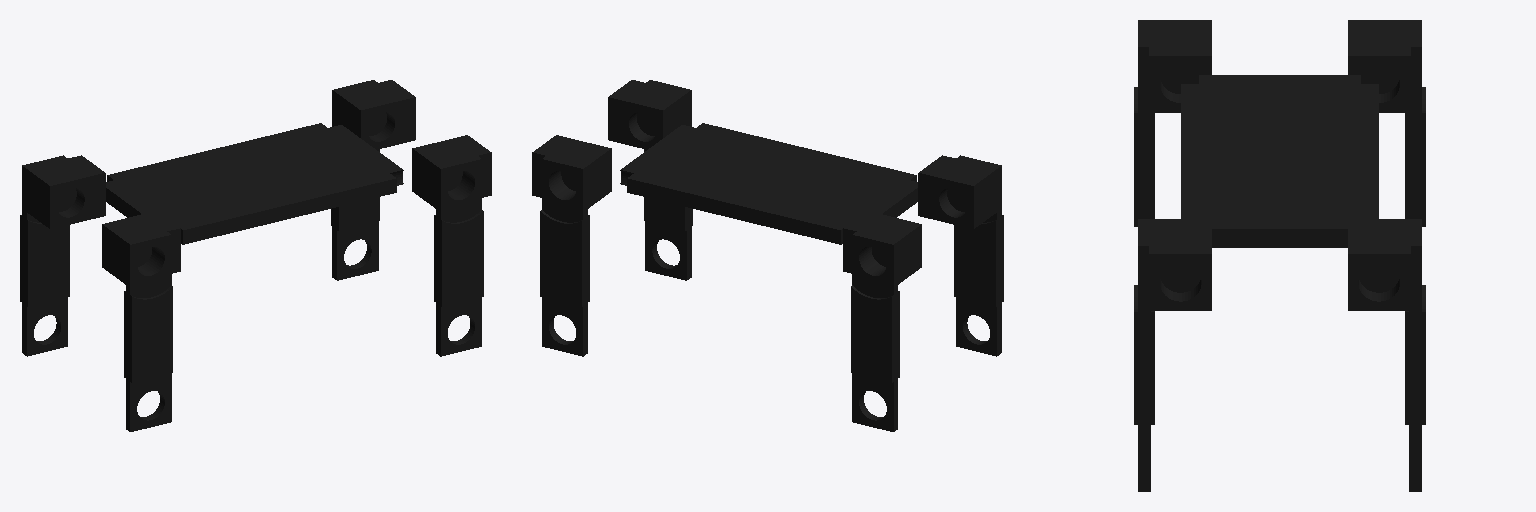
--- Facts derived from the render (not from the file) ---
Views: 3 orthographic renders of the robot side by side, from view 1: azimuth 30°, elevation 25°; view 2: azimuth 150°, elevation 25°; view 3: azimuth 270°, elevation 25°.
Model victor with 29 links and 28 joints (12 revolute, 16 fixed), rooted at base_link, posed every joint at zero.
Visible links, largest first — view 1: base_link, rf_upper_leg_link, rh_upper_leg_link, lh_upper_leg_link, lh_hip_link, lf_hip_link, lf_upper_leg_link, rf_hip_link, rh_hip_link; view 2: base_link, lf_upper_leg_link, lh_upper_leg_link, rh_upper_leg_link, rh_hip_link, rf_hip_link, rf_upper_leg_link, lf_hip_link, lh_hip_link; view 3: base_link, lf_hip_link, rf_hip_link, rh_hip_link, lh_hip_link, rf_upper_leg_link, lf_upper_leg_link, lh_upper_leg_link, rh_upper_leg_link.
Boxes of the visible links, x1,y1,x2,y2 form: base_link: (106, 123, 403, 244); rf_upper_leg_link: (434, 156, 483, 356); rh_upper_leg_link: (124, 231, 172, 431); lh_upper_leg_link: (20, 155, 69, 356); lh_hip_link: (26, 155, 105, 228); lf_hip_link: (337, 80, 415, 149); lf_upper_leg_link: (331, 80, 379, 280); rf_hip_link: (412, 135, 491, 208); rh_hip_link: (102, 211, 180, 284); base_link: (620, 123, 917, 244); lf_upper_leg_link: (540, 156, 589, 356); lh_upper_leg_link: (851, 231, 899, 431); rh_upper_leg_link: (954, 155, 1003, 356); rh_hip_link: (918, 155, 997, 228); rf_hip_link: (608, 80, 686, 149); rf_upper_leg_link: (644, 80, 692, 280); lf_hip_link: (532, 135, 611, 208); lh_hip_link: (843, 211, 921, 284); base_link: (1181, 75, 1378, 247); lf_hip_link: (1348, 219, 1410, 310); rf_hip_link: (1149, 219, 1211, 310); rh_hip_link: (1149, 20, 1211, 112); lh_hip_link: (1348, 20, 1410, 112); rf_upper_leg_link: (1134, 219, 1154, 491); lf_upper_leg_link: (1405, 219, 1425, 491); lh_upper_leg_link: (1405, 20, 1425, 226); rh_upper_leg_link: (1134, 20, 1154, 226).
Size in the robot's own frame: 0.265 by 0.14 by 0.13 metres.
9 mesh visuals loaded from 6 distinct referenced files (3 Collada DAE); not drawn: 6 (reference not matched to a file when rendering).

URDF robot description (victor):
<?xml version="1.0" encoding="utf-8"?>
<!-- =================================================================================== -->
<!-- |    This document was autogenerated by xacro from victor.urdf.xacro              | -->
<!-- |    EDITING THIS FILE BY HAND IS NOT RECOMMENDED                                 | -->
<!-- =================================================================================== -->
<robot name="victor">
  <!-- not how it is done in champ -->
  <material name="black">
    <color rgba="0.15 0.15 0.15 1.0"/>
  </material>
  <link name="base_link">
    <collision>
      <origin rpy="0 0 0" xyz="0 0 0"/>
      <geometry>
        <mesh filename="package://victor_description/meshes/base.dae" scale="1 1 1"/>
      </geometry>
    </collision>
    <visual>
      <origin rpy="0 0 0" xyz="0 0 0"/>
      <geometry>
        <mesh filename="package://victor_description/meshes/base.dae" scale="1 1 1"/>
      </geometry>
      <material name="black"/>
    </visual>
  </link>
  <link name="base_inertia">
    <inertial>
      <origin xyz="0 0 0"/>
      <mass value="2.0"/>
      <inertia ixx="0.00152083333333" ixy="0.0" ixz="0.0" iyy="0.00512083333333" iyz="0.0" izz="0.00660833333333"/>
    </inertial>
  </link>
  <joint name="base_link_to_base_inertia" type="fixed">
    <parent link="base_link"/>
    <child link="base_inertia"/>
    <origin rpy="0 0 0" xyz="0 0 0"/>
  </joint>
  <gazebo reference="base_link">
    <material>Gazebo/FlatBlack</material>
  </gazebo>
  <joint name="hokuyo_joint" type="fixed">
    <origin rpy="0 0 0" xyz="0.0 0.0 0.045"/>
    <parent link="base_link"/>
    <child link="hokuyo_frame"/>
  </joint>
  <link name="hokuyo_frame">
    <inertial>
      <mass value="0.270"/>
      <origin rpy="0 0 0" xyz="0 0 0"/>
      <inertia ixx="2.632e-4" ixy="0" ixz="0" iyy="2.632e-4" iyz="0" izz="1.62e-4"/>
    </inertial>
    <visual>
      <origin rpy="0 0 0" xyz="0 0 0"/>
      <geometry>
        <mesh filename="package://hector_sensors_description/meshes/hokuyo_utm30lx/hokuyo_utm_30lx.dae"/>
      </geometry>
    </visual>
    <collision>
      <origin rpy="0 0 0" xyz="0 0 -0.0115"/>
      <geometry>
        <box size="0.058 0.058 0.087"/>
        <!--<mesh filename="package://hector_sensors_description/meshes/hokuyo_utm30lx/hokuyo_utm_30lx.stl"/>-->
      </geometry>
    </collision>
  </link>
  <gazebo reference="hokuyo_frame">
    <sensor name="hokuyo" type="ray">
      <always_on>true</always_on>
      <update_rate>30</update_rate>
      <pose>0 0 0 0 0 0</pose>
      <visualize>false</visualize>
      <ray>
        <scan>
          <horizontal>
            <samples>1040</samples>
            <resolution>1</resolution>
            <min_angle>2.26892802759</min_angle>
            <max_angle>-2.26892802759</max_angle>
          </horizontal>
        </scan>
        <range>
          <min>0.2</min>
          <max>30.0</max>
          <resolution>0.01</resolution>
        </range>
        <noise>
          <type>gaussian</type>
          <mean>0.0</mean>
          <stddev>0.004</stddev>
        </noise>
      </ray>
      <plugin filename="libgazebo_ros_laser.so" name="gazebo_ros_hokuyo_controller">
        <topicName>scan</topicName>
        <frameName>hokuyo_frame</frameName>
      </plugin>
    </sensor>
  </gazebo>
  <joint name="camera_joint" type="fixed">
    <origin rpy="0 0 0" xyz="0.175 0.0 0.015"/>
    <parent link="base_link"/>
    <child link="camera_link"/>
  </joint>
  <link name="camera_link">
    <inertial>
      <mass value="0.200"/>
      <origin rpy="0 0 0" xyz="0 0 0"/>
      <inertia ixx="5.8083e-4" ixy="0" ixz="0" iyy="3.0833e-5" iyz="0" izz="5.9083e-4"/>
    </inertial>
    <visual>
      <origin rpy="0 0 0" xyz="0 0 0"/>
      <geometry>
        <mesh filename="package://hector_sensors_description/meshes/asus_camera/asus_camera_simple.dae"/>
      </geometry>
    </visual>
    <!--        
       <collision>
          <origin xyz="0 0 0" rpy="0 0 0" />
          <geometry>
            <box size="0.035 0.185 0.025"/>
          </geometry>
        </collision>
        -->
    <collision>
      <origin rpy="0 0 0" xyz="0 0 0"/>
      <geometry>
        <mesh filename="package://hector_sensors_description/meshes/asus_camera/asus_camera_simple.dae"/>
      </geometry>
    </collision>
  </link>
  <joint name="camera_depth_joint" type="fixed">
    <origin rpy="0 0 0" xyz="0.0 0.049 0.0"/>
    <parent link="camera_link"/>
    <child link="camera_depth_frame"/>
  </joint>
  <link name="camera_depth_frame"/>
  <joint name="camera_depth_optical_joint" type="fixed">
    <origin rpy="-1.57079632679 0.0 -1.57079632679" xyz="0 0 0"/>
    <parent link="camera_depth_frame"/>
    <child link="camera_depth_optical_frame"/>
  </joint>
  <link name="camera_depth_optical_frame"/>
  <joint name="camera_rgb_joint" type="fixed">
    <origin rpy="0 0 0" xyz="0.0 0.022 0.0"/>
    <parent link="camera_link"/>
    <child link="camera_rgb_frame"/>
  </joint>
  <link name="camera_rgb_frame"/>
  <joint name="camera_rgb_optical_joint" type="fixed">
    <origin rpy="-1.57079632679 0.0 -1.57079632679" xyz="0 0 0"/>
    <parent link="camera_rgb_frame"/>
    <child link="camera_rgb_optical_frame"/>
  </joint>
  <link name="camera_rgb_optical_frame"/>
  <!-- ASUS Xtion PRO camera for simulation -->
  <gazebo reference="camera_depth_frame">
    <sensor name="camera" type="depth">
      <update_rate>20</update_rate>
      <camera>
        <horizontal_fov>1.09606677025</horizontal_fov>
        <image>
          <format>R8G8B8</format>
          <width>640</width>
          <height>480</height>
        </image>
        <clip>
          <near>0.5</near>
          <far>9</far>
        </clip>
      </camera>
      <plugin filename="libgazebo_ros_openni_kinect.so" name="camera_camera_controller">
        <imageTopicName>camera/rgb/image_raw</imageTopicName>
        <cameraInfoTopicName>camera/rgb/camera_info</cameraInfoTopicName>
        <depthImageTopicName>camera/depth/image_raw</depthImageTopicName>
        <depthImageCameraInfoTopicName>camera/depth/camera_info</depthImageCameraInfoTopicName>
        <pointCloudTopicName>camera/depth/points</pointCloudTopicName>
        <frameName>camera_depth_optical_frame</frameName>
      </plugin>
    </sensor>
  </gazebo>
  <gazebo>
    <plugin filename="libhector_gazebo_ros_imu.so" name="imu_controller">
      <updateRate>50.0</updateRate>
      <bodyName>imu_link</bodyName>
      <topicName>imu/data</topicName>
      <accelDrift>0.005 0.005 0.005</accelDrift>
      <accelGaussianNoise>0.005 0.005 0.005</accelGaussianNoise>
      <rateDrift>0.005 0.005 0.005 </rateDrift>
      <rateGaussianNoise>0.005 0.005 0.005 </rateGaussianNoise>
      <headingDrift>0.005</headingDrift>
      <headingGaussianNoise>0.005</headingGaussianNoise>
    </plugin>
  </gazebo>
  <link name="imu_link">
    <inertial>
      <mass value="0.001"/>
      <origin rpy="0 0 0" xyz="0 0 0"/>
      <inertia ixx="1e-09" ixy="0.0" ixz="0.0" iyy="1e-09" iyz="0.0" izz="1e-09"/>
    </inertial>
  </link>
  <joint name="imu_joint" type="fixed">
    <parent link="base_link"/>
    <child link="imu_link"/>
  </joint>
  <!-- <xacro:include filename="$(find velodyne_description)/urdf/VLP-16.urdf.xacro"/>
        <xacro:VLP-16 parent="${base_name}" name="velodyne" topic="velodyne_points" hz="10" samples="1024" gpu="false" lasers="16" max_range="100">
	<origin xyz="0 0 ${base_height / 2}" rpy="0 0 0" />
        </xacro:VLP-16>

        <xacro:include filename="$(find champ_arm_description)/urdf/champ_arm.urdf.xacro" />
        <xacro:champ_arm parent="${base_name}">
	<origin xyz="0.07 0.0 ${base_height / 2}" rpy="0 0 0"/>
        </xacro:champ_arm> -->
  <link name="lf_hip_debug_link"/>
  <link name="lf_hip_link">
    <inertial>
      <mass value="0.25"/>
      <inertia ixx="3.75e-05" ixy="0.0" ixz="0.0" iyy="5.20833333333e-05" iyz="0.0" izz="5.20833333333e-05"/>
    </inertial>
    <collision>
      <origin rpy="0 0 0" xyz="0 0 0"/>
      <geometry>
        <mesh filename="package://victor_description/meshes/hip.dae" scale="1 1 1"/>
      </geometry>
    </collision>
    <visual>
      <origin rpy="0 0 0" xyz="0 0 0"/>
      <geometry>
        <mesh filename="package://victor_description/meshes/hip.dae" scale="1 1 1"/>
      </geometry>
      <material name="black"/>
    </visual>
  </link>
  <gazebo reference="lf_hip_link">
    <material>Gazebo/FlatBlack</material>
  </gazebo>
  <link name="lf_upper_leg_link">
    <inertial>
      <origin xyz="0 0 -0.05"/>
      <mass value="0.125"/>
      <inertia ixx="0.000105208333333" ixy="0.0" ixz="0.0" iyy="0.000113541666667" iyz="0.0" izz="1.04166666667e-05"/>
    </inertial>
    <collision>
      <origin rpy="0 0 0" xyz="0 0 0"/>
      <geometry>
        <mesh filename="package://victor_description/meshes/upper_leg.dae" scale="1 1 1"/>
      </geometry>
    </collision>
    <visual>
      <origin rpy="0 0 0" xyz="0 0 0"/>
      <geometry>
        <mesh filename="package://victor_description/meshes/upper_leg.dae" scale="1 1 1"/>
      </geometry>
      <material name="black"/>
    </visual>
  </link>
  <gazebo reference="lf_upper_leg_link">
    <material>Gazebo/FlatBlack</material>
  </gazebo>
  <link name="lf_lower_leg_link">
    <inertial>
      <origin xyz="0 0 -0.051"/>
      <mass value="0.125"/>
      <inertia ixx="0.000109416666667" ixy="0.0" ixz="0.0" iyy="0.00011775" iyz="0.0" izz="1.04166666667e-05"/>
    </inertial>
    <collision>
      <origin rpy="0 0 0" xyz="0 0 0"/>
      <geometry>
        <mesh filename="package://victor_description/meshes/lower_leg.dae" scale="1 1 1"/>
      </geometry>
    </collision>
    <visual>
      <origin rpy="0 0 0" xyz="0 0 0"/>
      <geometry>
        <mesh filename="package://victor_description/meshes/lower_leg.dae" scale="1 1 1"/>
      </geometry>
      <material name="black"/>
    </visual>
  </link>
  <gazebo reference="lf_lower_leg_link">
    <kp>1000000.0</kp>
    <kd>1.0</kd>
    <mu1>0.8</mu1>
    <mu2>0.8</mu2>
    <maxVel>0.0</maxVel>
    <minDepth>0.001</minDepth>
    <material>Gazebo/FlatBlack</material>
  </gazebo>
  <link name="lf_foot_link"/>
  <joint name="lf_debug_joint" type="fixed">
    <parent link="base_link"/>
    <child link="lf_hip_debug_link"/>
    <origin rpy="0 0 0" xyz="0.1125 0.0475 0"/>
  </joint>
  <joint name="lf_hip_joint" type="revolute">
    <axis xyz="1 0 0"/>
    <limit effort="25" lower="-3.14159265359" upper="3.14159265359" velocity="1.5"/>
    <parent link="base_link"/>
    <child link="lf_hip_link"/>
    <origin rpy="0 0 0" xyz="0.1125 0.0475 0"/>
  </joint>
  <joint name="lf_upper_leg_joint" type="revolute">
    <axis xyz="0 1 0"/>
    <limit effort="25" lower="-3.14159265359" upper="3.14159265359" velocity="1.5"/>
    <parent link="lf_hip_link"/>
    <child link="lf_upper_leg_link"/>
    <origin rpy="0 0 0" xyz="0 0.0175 0"/>
  </joint>
  <joint name="lf_lower_leg_joint" type="revolute">
    <axis xyz="0 1 0"/>
    <limit effort="25" lower="-3.14159265359" upper="3.14159265359" velocity="1.5"/>
    <parent link="lf_upper_leg_link"/>
    <child link="lf_lower_leg_link"/>
    <origin rpy="0 0 0" xyz="0 0 -0.1"/>
  </joint>
  <joint name="lf_foot_joint" type="fixed">
    <parent link="lf_lower_leg_link"/>
    <child link="lf_foot_link"/>
    <!-- <origin xyz="0.00325 0 -${lower_leg_to_foot_distance}" rpy="0 0 0" /> -->
    <origin rpy="0 0 0" xyz="0 0 -0.102"/>
  </joint>
  <transmission name="lf_hip_joint_trans">
    <type>transmission_interface/SimpleTransmission</type>
    <joint name="lf_hip_joint">
      <hardwareInterface>hardware_interface/EffortJointInterface</hardwareInterface>
    </joint>
    <actuator name="lf_hip_joint_motor">
      <hardwareInterface>hardware_interface/EffortJointInterface</hardwareInterface>
      <mechanicalReduction>1</mechanicalReduction>
    </actuator>
  </transmission>
  <transmission name="lf_upper_leg_joint_trans">
    <type>transmission_interface/SimpleTransmission</type>
    <joint name="lf_upper_leg_joint">
      <hardwareInterface>hardware_interface/EffortJointInterface</hardwareInterface>
    </joint>
    <actuator name="lf_upper_leg_joint_motor">
      <hardwareInterface>hardware_interface/EffortJointInterface</hardwareInterface>
      <mechanicalReduction>1</mechanicalReduction>
    </actuator>
  </transmission>
  <transmission name="lf_lower_leg_joint_trans">
    <type>transmission_interface/SimpleTransmission</type>
    <joint name="lf_lower_leg_joint">
      <hardwareInterface>hardware_interface/EffortJointInterface</hardwareInterface>
    </joint>
    <actuator name="lf_lower_joint_motor">
      <hardwareInterface>hardware_interface/EffortJointInterface</hardwareInterface>
      <mechanicalReduction>1</mechanicalReduction>
    </actuator>
  </transmission>
  <link name="lh_hip_debug_link"/>
  <link name="lh_hip_link">
    <inertial>
      <mass value="0.25"/>
      <inertia ixx="3.75e-05" ixy="0.0" ixz="0.0" iyy="5.20833333333e-05" iyz="0.0" izz="5.20833333333e-05"/>
    </inertial>
    <collision>
      <origin rpy="0 0 0" xyz="0 0 0"/>
      <geometry>
        <mesh filename="package://victor_description/meshes/hip.dae" scale="1 1 1"/>
      </geometry>
    </collision>
    <visual>
      <origin rpy="0 0 0" xyz="0 0 0"/>
      <geometry>
        <mesh filename="package://victor_description/meshes/hip.dae" scale="1 1 1"/>
      </geometry>
      <material name="black"/>
    </visual>
  </link>
  <gazebo reference="lh_hip_link">
    <material>Gazebo/FlatBlack</material>
  </gazebo>
  <link name="lh_upper_leg_link">
    <inertial>
      <origin xyz="0 0 -0.05"/>
      <mass value="0.125"/>
      <inertia ixx="0.000105208333333" ixy="0.0" ixz="0.0" iyy="0.000113541666667" iyz="0.0" izz="1.04166666667e-05"/>
    </inertial>
    <collision>
      <origin rpy="0 0 0" xyz="0 0 0"/>
      <geometry>
        <mesh filename="package://victor_description/meshes/upper_leg.dae" scale="1 1 1"/>
      </geometry>
    </collision>
    <visual>
      <origin rpy="0 0 0" xyz="0 0 0"/>
      <geometry>
        <mesh filename="package://victor_description/meshes/upper_leg.dae" scale="1 1 1"/>
      </geometry>
      <material name="black"/>
    </visual>
  </link>
  <gazebo reference="lh_upper_leg_link">
    <material>Gazebo/FlatBlack</material>
  </gazebo>
  <link name="lh_lower_leg_link">
    <inertial>
      <origin xyz="0 0 -0.051"/>
      <mass value="0.125"/>
      <inertia ixx="0.000109416666667" ixy="0.0" ixz="0.0" iyy="0.00011775" iyz="0.0" izz="1.04166666667e-05"/>
    </inertial>
    <collision>
      <origin rpy="0 0 0" xyz="0 0 0"/>
      <geometry>
        <mesh filename="package://victor_description/meshes/lower_leg.dae" scale="1 1 1"/>
      </geometry>
    </collision>
    <visual>
      <origin rpy="0 0 0" xyz="0 0 0"/>
      <geometry>
        <mesh filename="package://victor_description/meshes/lower_leg.dae" scale="1 1 1"/>
      </geometry>
      <material name="black"/>
    </visual>
  </link>
  <gazebo reference="lh_lower_leg_link">
    <kp>1000000.0</kp>
    <kd>1.0</kd>
    <mu1>0.8</mu1>
    <mu2>0.8</mu2>
    <maxVel>0.0</maxVel>
    <minDepth>0.001</minDepth>
    <material>Gazebo/FlatBlack</material>
  </gazebo>
  <link name="lh_foot_link"/>
  <joint name="lh_debug_joint" type="fixed">
    <parent link="base_link"/>
    <child link="lh_hip_debug_link"/>
    <origin rpy="0 0 0" xyz="-0.1125 0.0475 0"/>
  </joint>
  <joint name="lh_hip_joint" type="revolute">
    <axis xyz="1 0 0"/>
    <limit effort="25" lower="-3.14159265359" upper="3.14159265359" velocity="1.5"/>
    <parent link="base_link"/>
    <child link="lh_hip_link"/>
    <origin rpy="0 0 0" xyz="-0.1125 0.0475 0"/>
  </joint>
  <joint name="lh_upper_leg_joint" type="revolute">
    <axis xyz="0 1 0"/>
    <limit effort="25" lower="-3.14159265359" upper="3.14159265359" velocity="1.5"/>
    <parent link="lh_hip_link"/>
    <child link="lh_upper_leg_link"/>
    <origin rpy="0 0 0" xyz="0 0.0175 0"/>
  </joint>
  <joint name="lh_lower_leg_joint" type="revolute">
    <axis xyz="0 1 0"/>
    <limit effort="25" lower="-3.14159265359" upper="3.14159265359" velocity="1.5"/>
    <parent link="lh_upper_leg_link"/>
    <child link="lh_lower_leg_link"/>
    <origin rpy="0 0 0" xyz="0 0 -0.1"/>
  </joint>
  <joint name="lh_foot_joint" type="fixed">
    <parent link="lh_lower_leg_link"/>
    <child link="lh_foot_link"/>
    <!-- <origin xyz="0.00325 0 -${lower_leg_to_foot_distance}" rpy="0 0 0" /> -->
    <origin rpy="0 0 0" xyz="0 0 -0.102"/>
  </joint>
  <transmission name="lh_hip_joint_trans">
    <type>transmission_interface/SimpleTransmission</type>
    <joint name="lh_hip_joint">
      <hardwareInterface>hardware_interface/EffortJointInterface</hardwareInterface>
    </joint>
    <actuator name="lh_hip_joint_motor">
      <hardwareInterface>hardware_interface/EffortJointInterface</hardwareInterface>
      <mechanicalReduction>1</mechanicalReduction>
    </actuator>
  </transmission>
  <transmission name="lh_upper_leg_joint_trans">
    <type>transmission_interface/SimpleTransmission</type>
    <joint name="lh_upper_leg_joint">
      <hardwareInterface>hardware_interface/EffortJointInterface</hardwareInterface>
    </joint>
    <actuator name="lh_upper_leg_joint_motor">
      <hardwareInterface>hardware_interface/EffortJointInterface</hardwareInterface>
      <mechanicalReduction>1</mechanicalReduction>
    </actuator>
  </transmission>
  <transmission name="lh_lower_leg_joint_trans">
    <type>transmission_interface/SimpleTransmission</type>
    <joint name="lh_lower_leg_joint">
      <hardwareInterface>hardware_interface/EffortJointInterface</hardwareInterface>
    </joint>
    <actuator name="lh_lower_joint_motor">
      <hardwareInterface>hardware_interface/EffortJointInterface</hardwareInterface>
      <mechanicalReduction>1</mechanicalReduction>
    </actuator>
  </transmission>
  <link name="rf_hip_debug_link"/>
  <link name="rf_hip_link">
    <inertial>
      <mass value="0.25"/>
      <inertia ixx="3.75e-05" ixy="0.0" ixz="0.0" iyy="5.20833333333e-05" iyz="0.0" izz="5.20833333333e-05"/>
    </inertial>
    <collision>
      <origin rpy="0 0 0" xyz="0 0 0"/>
      <geometry>
        <mesh filename="package://victor_description/meshes/hip.dae" scale="1 1 1"/>
      </geometry>
    </collision>
    <visual>
      <origin rpy="0 0 0" xyz="0 0 0"/>
      <geometry>
        <mesh filename="package://victor_description/meshes/hip.dae" scale="1 1 1"/>
      </geometry>
      <material name="black"/>
    </visual>
  </link>
  <gazebo reference="rf_hip_link">
    <material>Gazebo/FlatBlack</material>
  </gazebo>
  <link name="rf_upper_leg_link">
    <inertial>
      <origin xyz="0 0 -0.05"/>
      <mass value="0.125"/>
      <inertia ixx="0.000105208333333" ixy="0.0" ixz="0.0" iyy="0.000113541666667" iyz="0.0" izz="1.04166666667e-05"/>
    </inertial>
    <collision>
      <origin rpy="0 0 0" xyz="0 0 0"/>
      <geometry>
        <mesh filename="package://victor_description/meshes/upper_leg.dae" scale="1 1 1"/>
      </geometry>
    </collision>
    <visual>
      <origin rpy="0 0 0" xyz="0 0 0"/>
      <geometry>
        <mesh filename="package://victor_description/meshes/upper_leg.dae" scale="1 1 1"/>
      </geometry>
      <material name="black"/>
    </visual>
  </link>
  <gazebo reference="rf_upper_leg_link">
    <material>Gazebo/FlatBlack</material>
  </gazebo>
  <link name="rf_lower_leg_link">
    <inertial>
      <origin xyz="0 0 -0.051"/>
      <mass value="0.125"/>
      <inertia ixx="0.000109416666667" ixy="0.0" ixz="0.0" iyy="0.00011775" iyz="0.0" izz="1.04166666667e-05"/>
    </inertial>
    <collision>
      <origin rpy="0 0 0" xyz="0 0 0"/>
      <geometry>
        <mesh filename="package://victor_description/meshes/lower_leg.dae" scale="1 1 1"/>
      </geometry>
    </collision>
    <visual>
      <origin rpy="0 0 0" xyz="0 0 0"/>
      <geometry>
        <mesh filename="package://victor_description/meshes/lower_leg.dae" scale="1 1 1"/>
      </geometry>
      <material name="black"/>
    </visual>
  </link>
  <gazebo reference="rf_lower_leg_link">
    <kp>1000000.0</kp>
    <kd>1.0</kd>
    <mu1>0.8</mu1>
    <mu2>0.8</mu2>
    <maxVel>0.0</maxVel>
    <minDepth>0.001</minDepth>
    <material>Gazebo/FlatBlack</material>
  </gazebo>
  <link name="rf_foot_link"/>
  <joint name="rf_debug_joint" type="fixed">
    <parent link="base_link"/>
    <child link="rf_hip_debug_link"/>
    <origin rpy="0 0 0" xyz="0.1125 -0.0475 0"/>
  </joint>
  <joint name="rf_hip_joint" type="revolute">
    <axis xyz="1 0 0"/>
    <limit effort="25" lower="-3.14159265359" upper="3.14159265359" velocity="1.5"/>
    <parent link="base_link"/>
    <child link="rf_hip_link"/>
    <origin rpy="0 0 0" xyz="0.1125 -0.0475 0"/>
  </joint>
  <joint name="rf_upper_leg_joint" type="revolute">
    <axis xyz="0 1 0"/>
    <limit effort="25" lower="-3.14159265359" upper="3.14159265359" velocity="1.5"/>
    <parent link="rf_hip_link"/>
    <child link="rf_upper_leg_link"/>
    <origin rpy="0 0 0" xyz="0 -0.0175 0"/>
  </joint>
  <joint name="rf_lower_leg_joint" type="revolute">
    <axis xyz="0 1 0"/>
    <limit effort="25" lower="-3.14159265359" upper="3.14159265359" velocity="1.5"/>
    <parent link="rf_upper_leg_link"/>
    <child link="rf_lower_leg_link"/>
    <origin rpy="0 0 0" xyz="0 0 -0.1"/>
  </joint>
  <joint name="rf_foot_joint" type="fixed">
    <parent link="rf_lower_leg_link"/>
    <child link="rf_foot_link"/>
    <!-- <origin xyz="0.00325 0 -${lower_leg_to_foot_distance}" rpy="0 0 0" /> -->
    <origin rpy="0 0 0" xyz="0 0 -0.102"/>
  </joint>
  <transmission name="rf_hip_joint_trans">
    <type>transmission_interface/SimpleTransmission</type>
    <joint name="rf_hip_joint">
      <hardwareInterface>hardware_interface/EffortJointInterface</hardwareInterface>
    </joint>
    <actuator name="rf_hip_joint_motor">
      <hardwareInterface>hardware_interface/EffortJointInterface</hardwareInterface>
      <mechanicalReduction>1</mechanicalReduction>
    </actuator>
  </transmission>
  <transmission name="rf_upper_leg_joint_trans">
    <type>transmission_interface/SimpleTransmission</type>
    <joint name="rf_upper_leg_joint">
      <hardwareInterface>hardware_interface/EffortJointInterface</hardwareInterface>
    </joint>
    <actuator name="rf_upper_leg_joint_motor">
      <hardwareInterface>hardware_interface/EffortJointInterface</hardwareInterface>
      <mechanicalReduction>1</mechanicalReduction>
    </actuator>
  </transmission>
  <transmission name="rf_lower_leg_joint_trans">
    <type>transmission_interface/SimpleTransmission</type>
    <joint name="rf_lower_leg_joint">
      <hardwareInterface>hardware_interface/EffortJointInterface</hardwareInterface>
    </joint>
    <actuator name="rf_lower_joint_motor">
      <hardwareInterface>hardware_interface/EffortJointInterface</hardwareInterface>
      <mechanicalReduction>1</mechanicalReduction>
    </actuator>
  </transmission>
  <link name="rh_hip_debug_link"/>
  <link name="rh_hip_link">
    <inertial>
      <mass value="0.25"/>
      <inertia ixx="3.75e-05" ixy="0.0" ixz="0.0" iyy="5.20833333333e-05" iyz="0.0" izz="5.20833333333e-05"/>
    </inertial>
    <collision>
      <origin rpy="0 0 0" xyz="0 0 0"/>
      <geometry>
        <mesh filename="package://victor_description/meshes/hip.dae" scale="1 1 1"/>
      </geometry>
    </collision>
    <visual>
      <origin rpy="0 0 0" xyz="0 0 0"/>
      <geometry>
        <mesh filename="package://victor_description/meshes/hip.dae" scale="1 1 1"/>
      </geometry>
      <material name="black"/>
    </visual>
  </link>
  <gazebo reference="rh_hip_link">
    <material>Gazebo/FlatBlack</material>
  </gazebo>
  <link name="rh_upper_leg_link">
    <inertial>
      <origin xyz="0 0 -0.05"/>
      <mass value="0.125"/>
      <inertia ixx="0.000105208333333" ixy="0.0" ixz="0.0" iyy="0.000113541666667" iyz="0.0" izz="1.04166666667e-05"/>
    </inertial>
    <collision>
      <origin rpy="0 0 0" xyz="0 0 0"/>
      <geometry>
        <mesh filename="package://victor_description/meshes/upper_leg.dae" scale="1 1 1"/>
      </geometry>
    </collision>
    <visual>
      <origin rpy="0 0 0" xyz="0 0 0"/>
      <geometry>
        <mesh filename="package://victor_description/meshes/upper_leg.dae" scale="1 1 1"/>
      </geometry>
      <material name="black"/>
    </visual>
  </link>
  <gazebo reference="rh_upper_leg_link">
    <material>Gazebo/FlatBlack</material>
  </gazebo>
  <link name="rh_lower_leg_link">
    <inertial>
      <origin xyz="0 0 -0.051"/>
      <mass value="0.125"/>
      <inertia ixx="0.000109416666667" ixy="0.0" ixz="0.0" iyy="0.00011775" iyz="0.0" izz="1.04166666667e-05"/>
    </inertial>
    <collision>
      <origin rpy="0 0 0" xyz="0 0 0"/>
      <geometry>
        <mesh filename="package://victor_description/meshes/lower_leg.dae" scale="1 1 1"/>
      </geometry>
    </collision>
    <visual>
      <origin rpy="0 0 0" xyz="0 0 0"/>
      <geometry>
        <mesh filename="package://victor_description/meshes/lower_leg.dae" scale="1 1 1"/>
      </geometry>
      <material name="black"/>
    </visual>
  </link>
  <gazebo reference="rh_lower_leg_link">
    <kp>1000000.0</kp>
    <kd>1.0</kd>
    <mu1>0.8</mu1>
    <mu2>0.8</mu2>
    <maxVel>0.0</maxVel>
    <minDepth>0.001</minDepth>
    <material>Gazebo/FlatBlack</material>
  </gazebo>
  <link name="rh_foot_link"/>
  <joint name="rh_debug_joint" type="fixed">
    <parent link="base_link"/>
    <child link="rh_hip_debug_link"/>
    <origin rpy="0 0 0" xyz="-0.1125 -0.0475 0"/>
  </joint>
  <joint name="rh_hip_joint" type="revolute">
    <axis xyz="1 0 0"/>
    <limit effort="25" lower="-3.14159265359" upper="3.14159265359" velocity="1.5"/>
    <parent link="base_link"/>
    <child link="rh_hip_link"/>
    <origin rpy="0 0 0" xyz="-0.1125 -0.0475 0"/>
  </joint>
  <joint name="rh_upper_leg_joint" type="revolute">
    <axis xyz="0 1 0"/>
    <limit effort="25" lower="-3.14159265359" upper="3.14159265359" velocity="1.5"/>
    <parent link="rh_hip_link"/>
    <child link="rh_upper_leg_link"/>
    <origin rpy="0 0 0" xyz="0 -0.0175 0"/>
  </joint>
  <joint name="rh_lower_leg_joint" type="revolute">
    <axis xyz="0 1 0"/>
    <limit effort="25" lower="-3.14159265359" upper="3.14159265359" velocity="1.5"/>
    <parent link="rh_upper_leg_link"/>
    <child link="rh_lower_leg_link"/>
    <origin rpy="0 0 0" xyz="0 0 -0.1"/>
  </joint>
  <joint name="rh_foot_joint" type="fixed">
    <parent link="rh_lower_leg_link"/>
    <child link="rh_foot_link"/>
    <!-- <origin xyz="0.00325 0 -${lower_leg_to_foot_distance}" rpy="0 0 0" /> -->
    <origin rpy="0 0 0" xyz="0 0 -0.102"/>
  </joint>
  <transmission name="rh_hip_joint_trans">
    <type>transmission_interface/SimpleTransmission</type>
    <joint name="rh_hip_joint">
      <hardwareInterface>hardware_interface/EffortJointInterface</hardwareInterface>
    </joint>
    <actuator name="rh_hip_joint_motor">
      <hardwareInterface>hardware_interface/EffortJointInterface</hardwareInterface>
      <mechanicalReduction>1</mechanicalReduction>
    </actuator>
  </transmission>
  <transmission name="rh_upper_leg_joint_trans">
    <type>transmission_interface/SimpleTransmission</type>
    <joint name="rh_upper_leg_joint">
      <hardwareInterface>hardware_interface/EffortJointInterface</hardwareInterface>
    </joint>
    <actuator name="rh_upper_leg_joint_motor">
      <hardwareInterface>hardware_interface/EffortJointInterface</hardwareInterface>
      <mechanicalReduction>1</mechanicalReduction>
    </actuator>
  </transmission>
  <transmission name="rh_lower_leg_joint_trans">
    <type>transmission_interface/SimpleTransmission</type>
    <joint name="rh_lower_leg_joint">
      <hardwareInterface>hardware_interface/EffortJointInterface</hardwareInterface>
    </joint>
    <actuator name="rh_lower_joint_motor">
      <hardwareInterface>hardware_interface/EffortJointInterface</hardwareInterface>
      <mechanicalReduction>1</mechanicalReduction>
    </actuator>
  </transmission>
  <gazebo>
    <plugin filename="libgazebo_ros_p3d.so" name="p3d_base_controller">
      <alwaysOn>true</alwaysOn>
      <updateRate>10.0</updateRate>
      <bodyName>base_link</bodyName>
      <topicName>odom/ground_truth</topicName>
      <gaussianNoise>0.01</gaussianNoise>
      <frameName>world</frameName>
      <xyzOffsets>0 0 0</xyzOffsets>
      <rpyOffsets>0 0 0</rpyOffsets>
    </plugin>
  </gazebo>
  <gazebo>
    <plugin filename="libgazebo_ros_control.so" name="gazebo_ros_control">
      <legacyModeNS>true</legacyModeNS>
    </plugin>
  </gazebo>
</robot>
